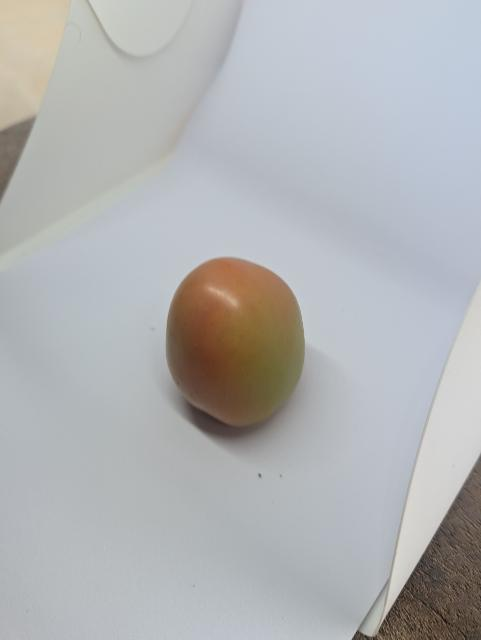turning: (165, 250, 313, 431)
